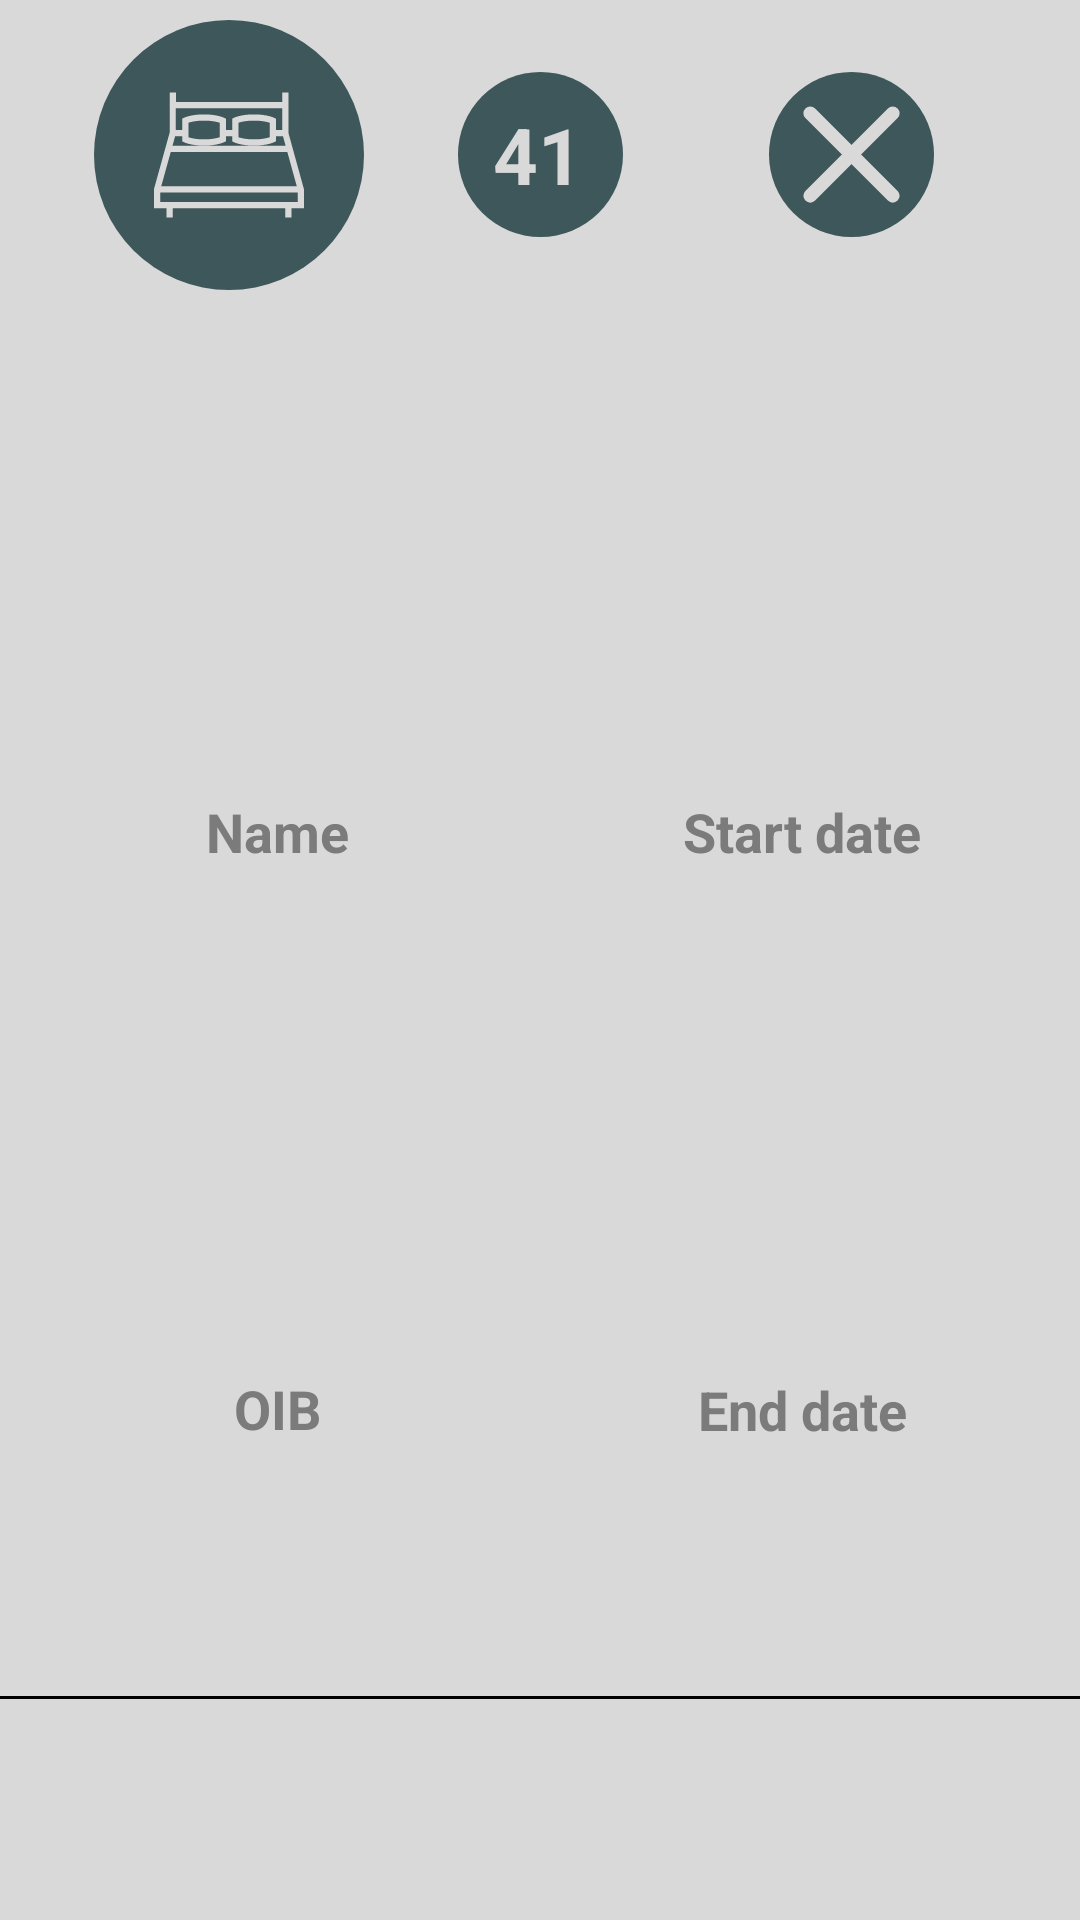

Icons on this 1080w x 1920h Android screen, each with its box as (x1, y1, x2, y2):
room: (154, 92, 304, 218)
